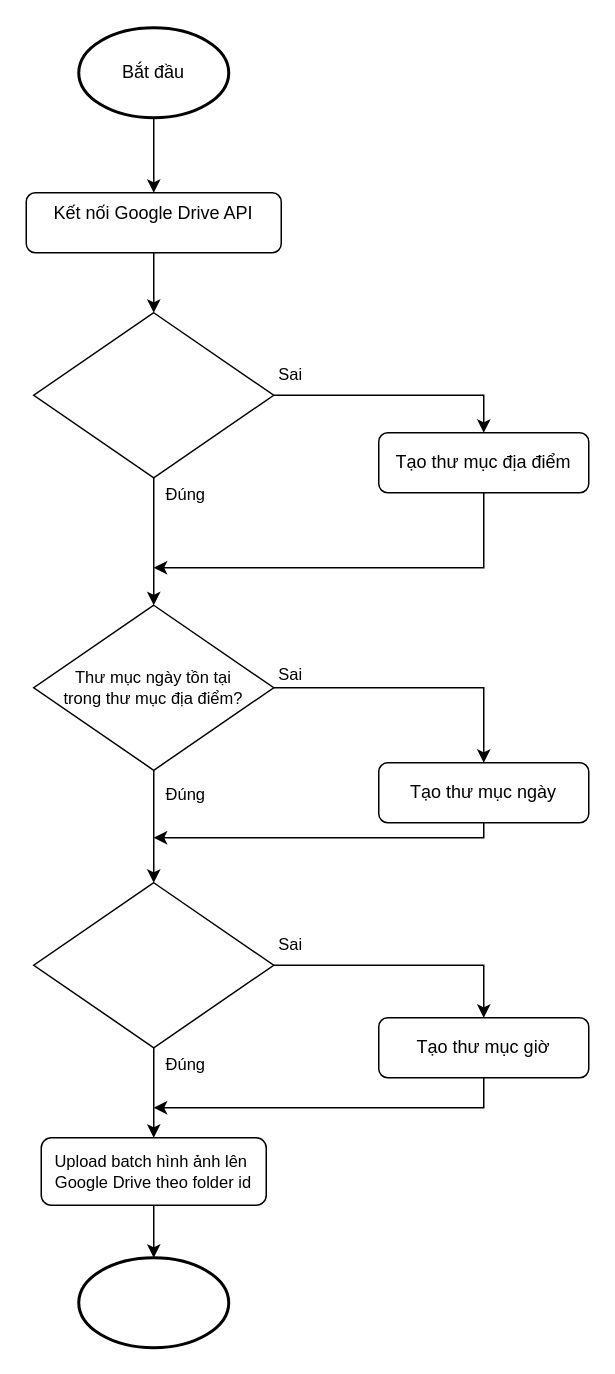
The diagram is 615 pixels wide and 1374 high, and some of its shapes have lost their labels. The shapes that lost their labels are listed below. From the top down, each one's centre as x and y in pixels, then its label:
[153,394]: Thư mục địa điểm tồn tại trên Google Drive ?
[153,964]: Thư mục giờ tồn tại trong thư mục ngày?
[153,1302]: Kết thúc
